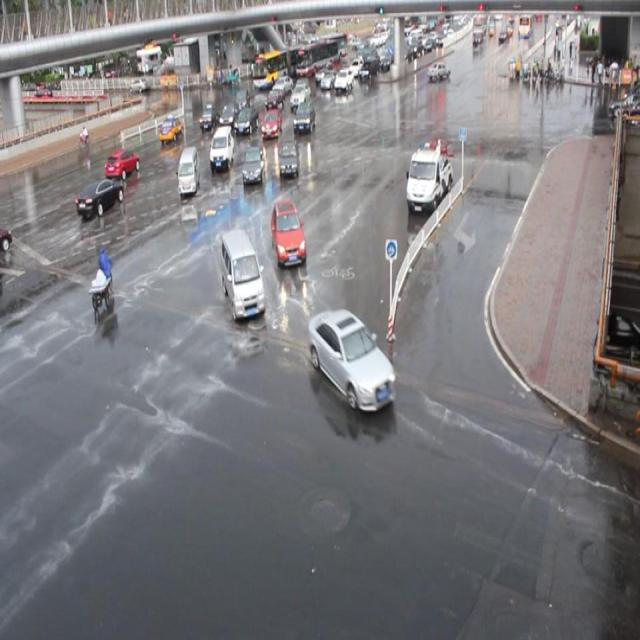bus: (404, 146, 452, 213)
car: (309, 306, 397, 411), (270, 199, 307, 266), (75, 177, 124, 216), (105, 148, 140, 180), (242, 144, 266, 182), (278, 139, 300, 176), (293, 102, 316, 131), (234, 106, 259, 132), (159, 114, 184, 140), (261, 108, 282, 136), (289, 82, 311, 108), (199, 104, 220, 128), (219, 102, 240, 126), (264, 87, 285, 109), (272, 74, 293, 94), (233, 88, 251, 110)
truck: (220, 227, 266, 319), (177, 144, 201, 194), (210, 124, 233, 170)
